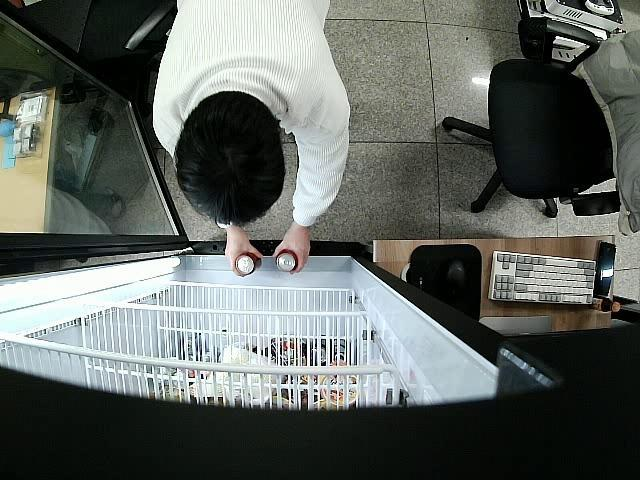11_cocaColaZero: (235, 252, 262, 276), (276, 250, 300, 274)
